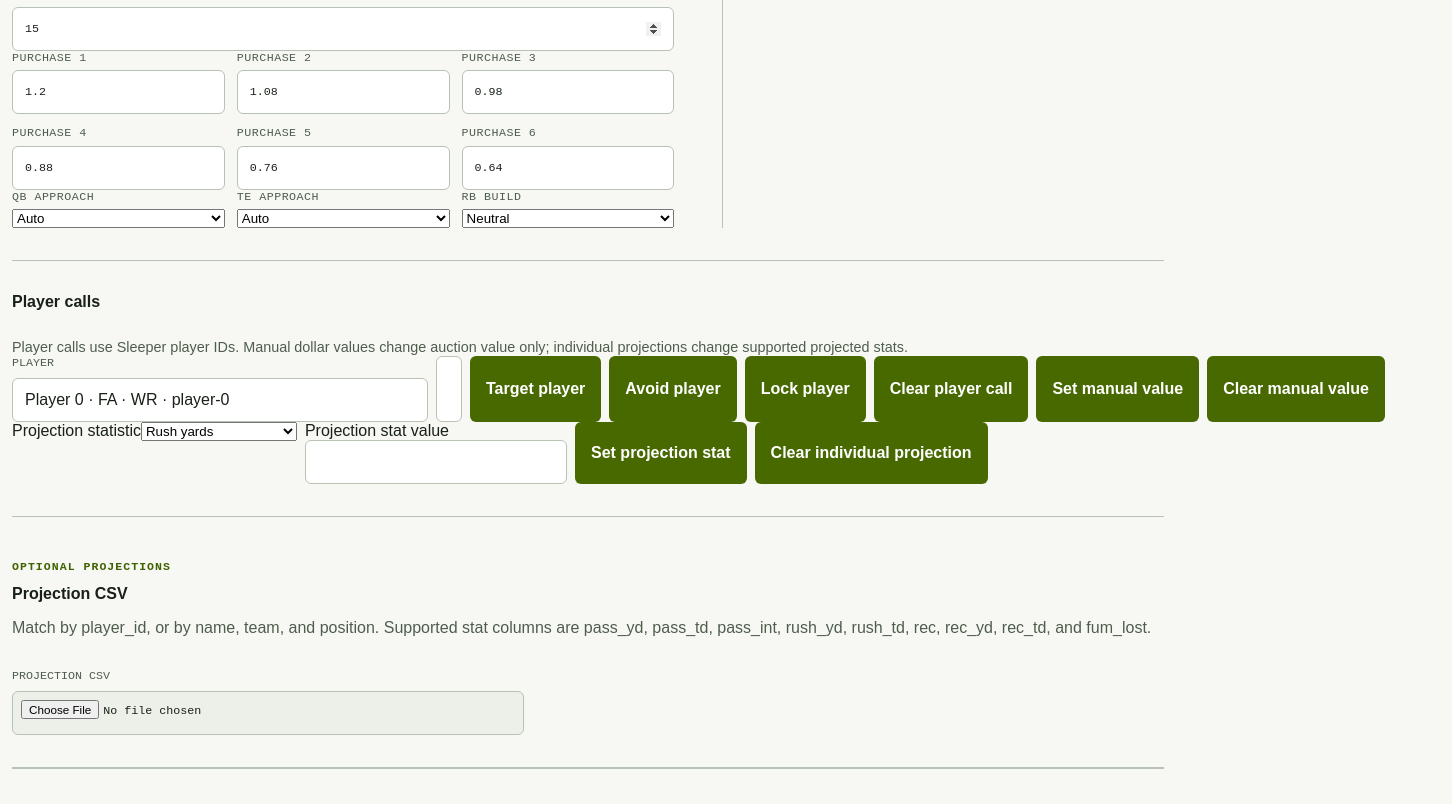
Test case: StrategyBuilder › searches a bounded identity-backed player list with the keyboard
This screenshot has width=1452, height=804.
(page scrolled)
Replace the text in the dropdown labelled "Player" with "Needle". click: (220, 400)
box: [12,378,428,422]
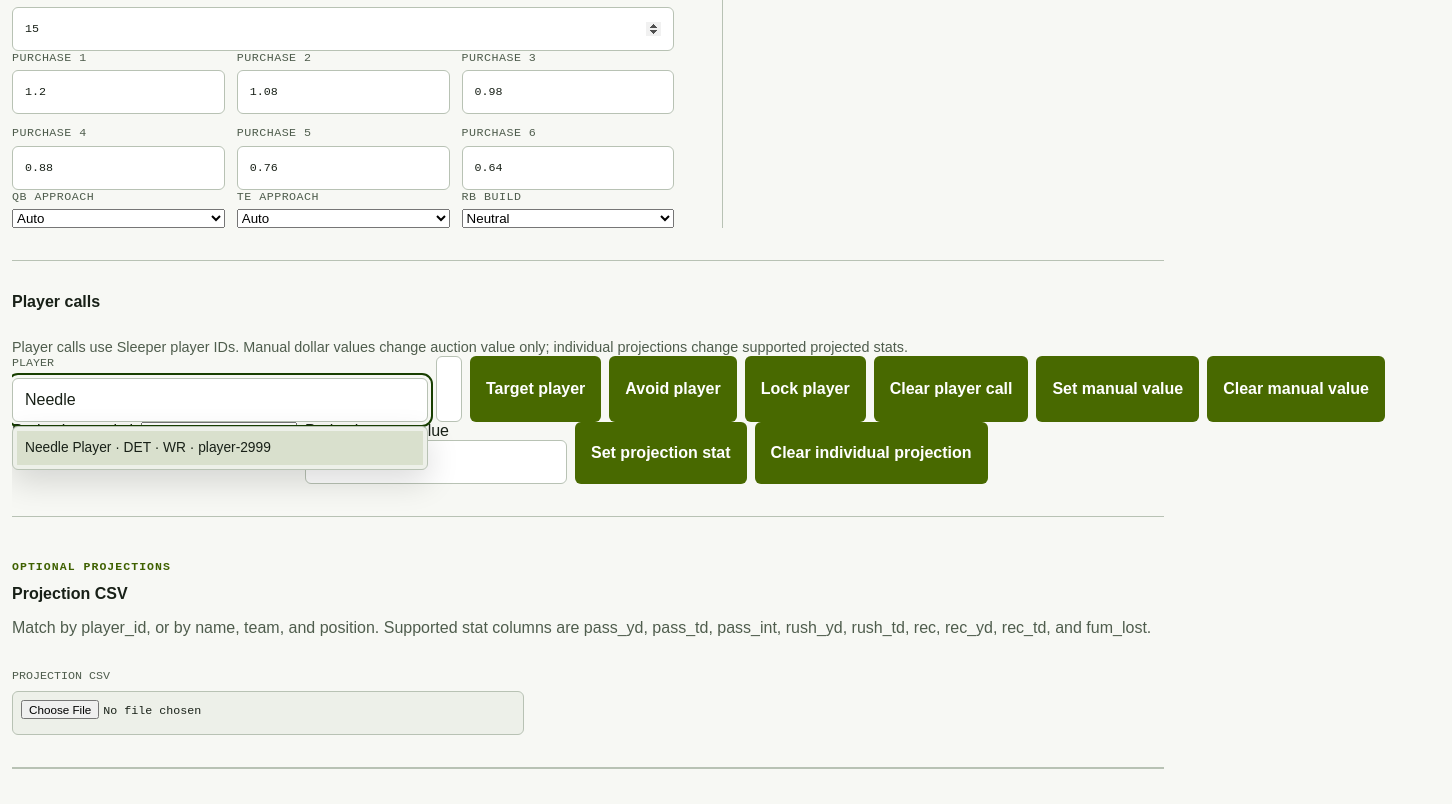
Result: the number of options is 1 at [17,431,423,465]
Press Arrowdown Enter
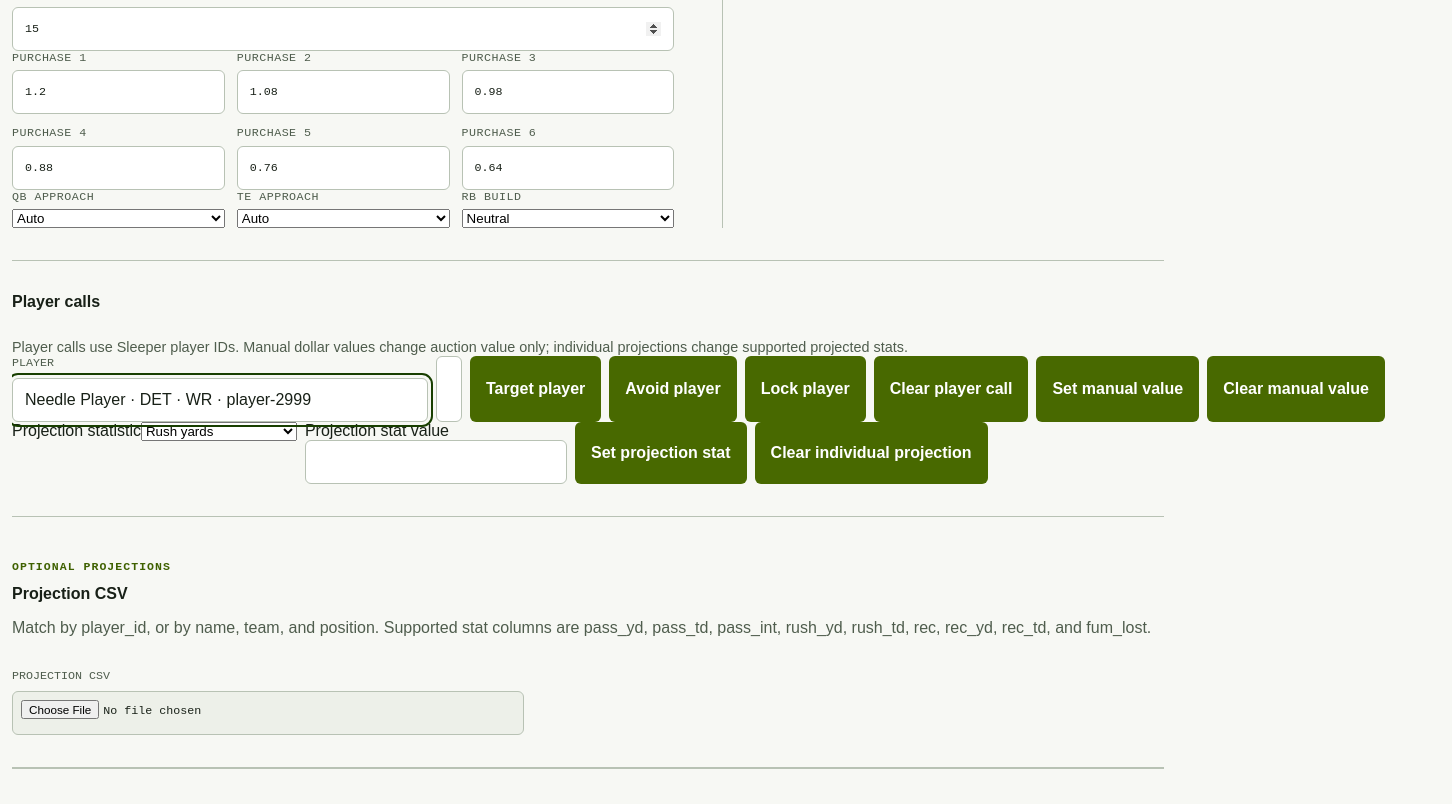
Click the button "Target player". click: (536, 389)
box: [470,356,601,422]
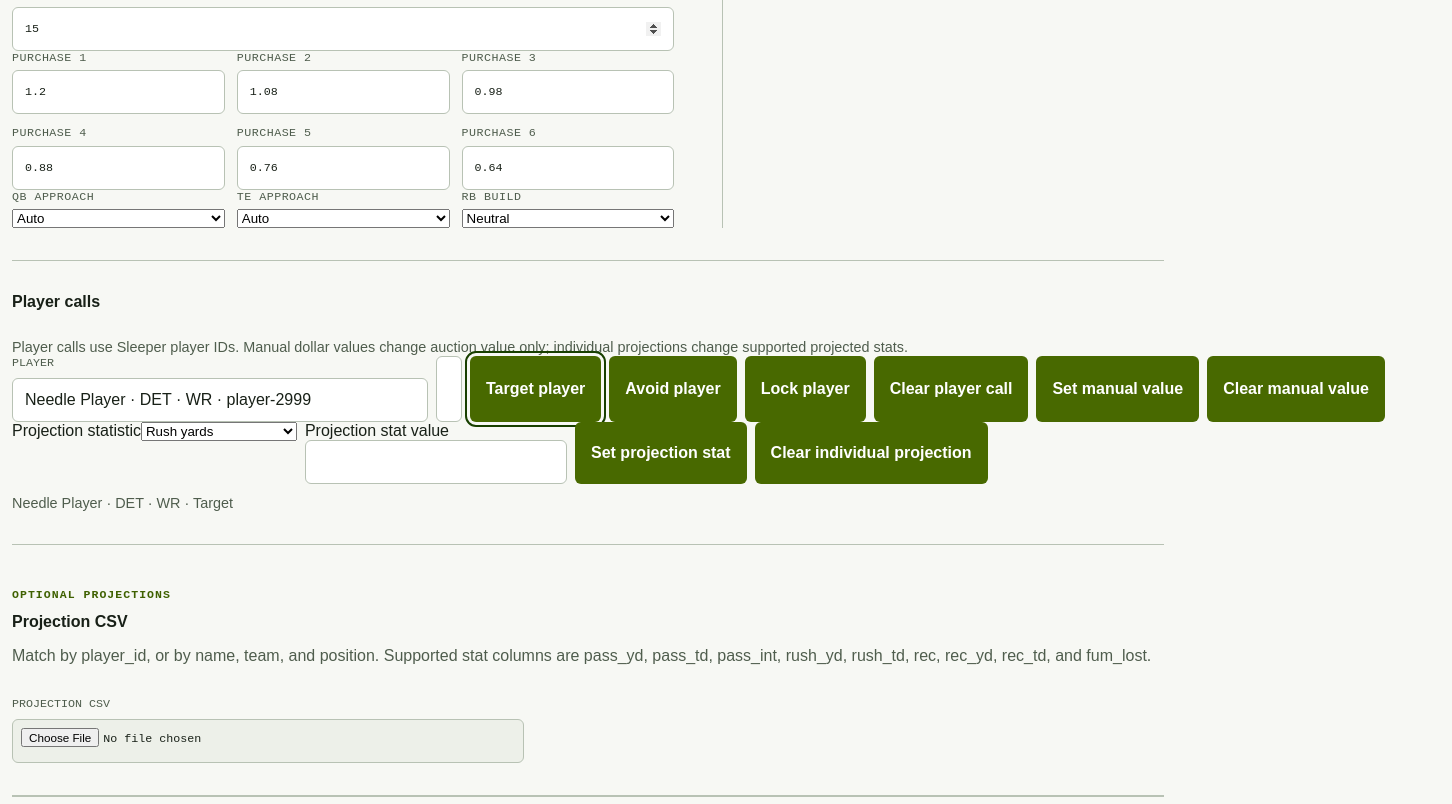
Result: the text "Needle Player · DET · WR · Target" is shown at [12,495,233,511]
